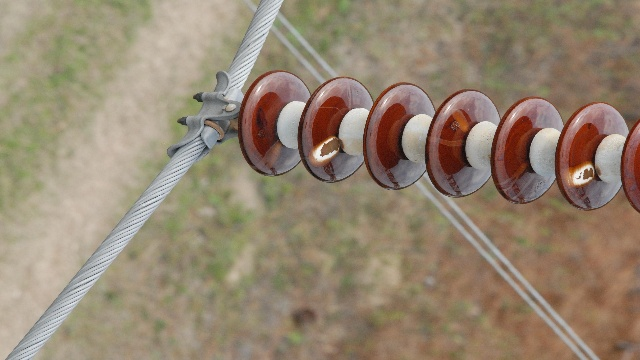insulator_unspecified: (239, 70, 639, 214)
pollution_flashover_local: (306, 135, 344, 167), (257, 139, 283, 174), (569, 161, 599, 189), (445, 103, 467, 134)
